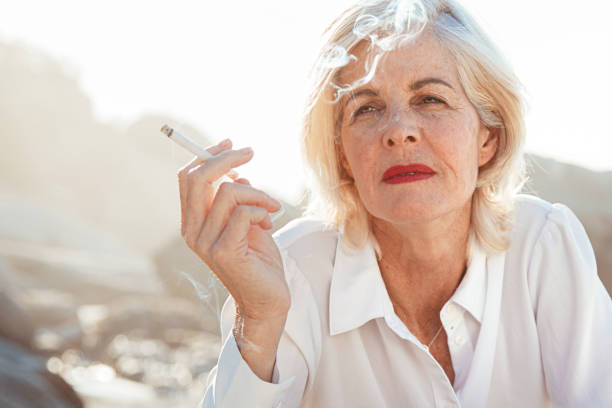cigarette: (158, 123, 241, 182)
